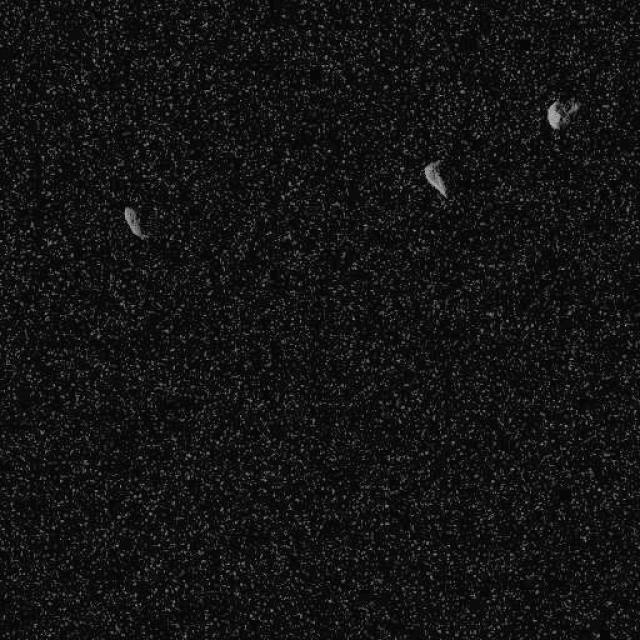D2: (545, 95, 580, 130), (421, 159, 449, 199), (122, 204, 148, 240)
